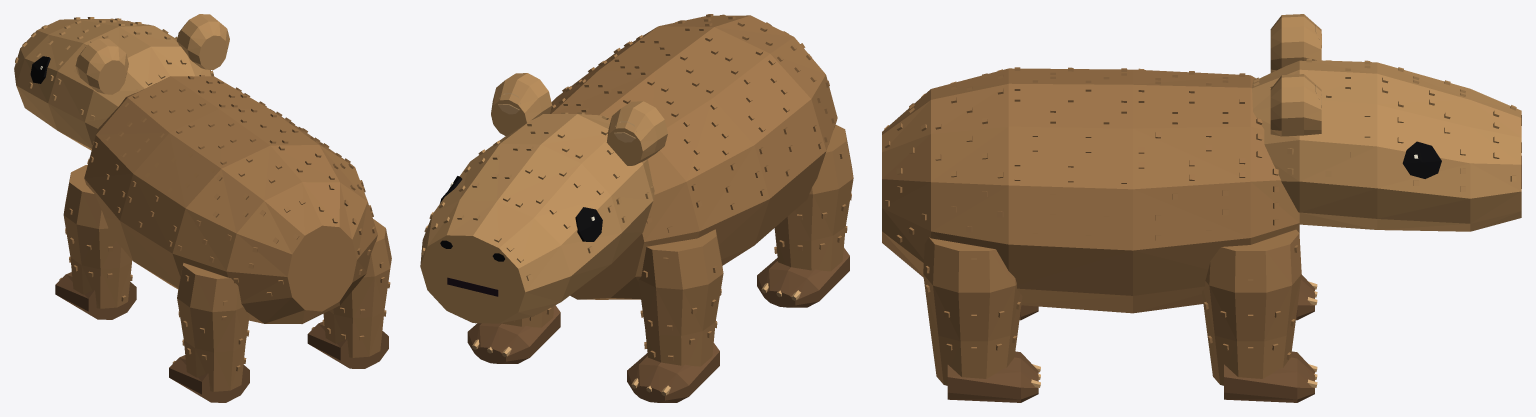
The model's file is Capybara.fbx.
The picture shows the model from 3 angles, left to right: view 1: azimuth 30°, elevation 25°; view 2: azimuth 150°, elevation 25°; view 3: azimuth 270°, elevation 25°; orthographic projection. The views are drawn at different scales.
Visible parts, largest first — view 1: Import3D_Core, Import3D_Head, Import3D_LegBL, Import3D_LegFL, Import3D_LegBR, Import3D_EarL, Import3D_EarR, Import3D_LegFLFoot, Import3D_LegBRFoot, Import3D_LegBLFoot, Import3D_EyeL; view 2: Import3D_Core, Import3D_Head, Import3D_LegFL, Import3D_LegBL, Import3D_LegBLFoot, Import3D_LegFLFoot, Import3D_LegFRFoot, Import3D_EarL, Import3D_EarR, Import3D_EyeL, Import3D_LegFR; view 3: Import3D_Core, Import3D_Head, Import3D_LegFR, Import3D_LegBR, Import3D_LegBRFoot, Import3D_LegFRFoot, Import3D_EarR, Import3D_EarL, Import3D_EyeR, Import3D_LegFLFoot.
Part boxes in pixels (x1,y1,x2,y2): Import3D_Core: [84, 75, 377, 323]; Import3D_Head: [14, 17, 213, 150]; Import3D_LegBL: [177, 263, 249, 391]; Import3D_LegFL: [63, 165, 132, 308]; Import3D_LegBR: [322, 219, 391, 357]; Import3D_EarL: [75, 38, 128, 94]; Import3D_EarR: [176, 14, 229, 70]; Import3D_LegFLFoot: [55, 272, 136, 319]; Import3D_LegBRFoot: [307, 322, 388, 368]; Import3D_LegBLFoot: [169, 355, 249, 402]; Import3D_EyeL: [30, 56, 50, 83]; Import3D_Core: [550, 14, 837, 299]; Import3D_Head: [420, 112, 654, 323]; Import3D_LegFL: [638, 229, 723, 366]; Import3D_LegBL: [774, 125, 853, 271]; Import3D_LegBLFoot: [757, 247, 849, 307]; Import3D_LegFLFoot: [627, 343, 719, 402]; Import3D_LegFRFoot: [467, 305, 560, 363]; Import3D_EarL: [606, 101, 667, 165]; Import3D_EarR: [491, 73, 551, 136]; Import3D_EyeL: [575, 207, 602, 241]; Import3D_LegFR: [501, 306, 554, 327]; Import3D_Core: [882, 67, 1299, 313]; Import3D_Head: [1252, 58, 1521, 231]; Import3D_LegFR: [1202, 229, 1301, 385]; Import3D_LegBR: [923, 237, 1022, 385]; Import3D_LegBRFoot: [947, 351, 1040, 402]; Import3D_LegFRFoot: [1224, 351, 1317, 402]; Import3D_EarR: [1270, 74, 1321, 136]; Import3D_EarL: [1270, 14, 1321, 72]; Import3D_EyeR: [1402, 141, 1441, 178]; Import3D_LegFLFoot: [1296, 274, 1317, 320].
Size of the model in its own units: 129 by 153 by 288.
Materials: 1 (1 with a texture image).
